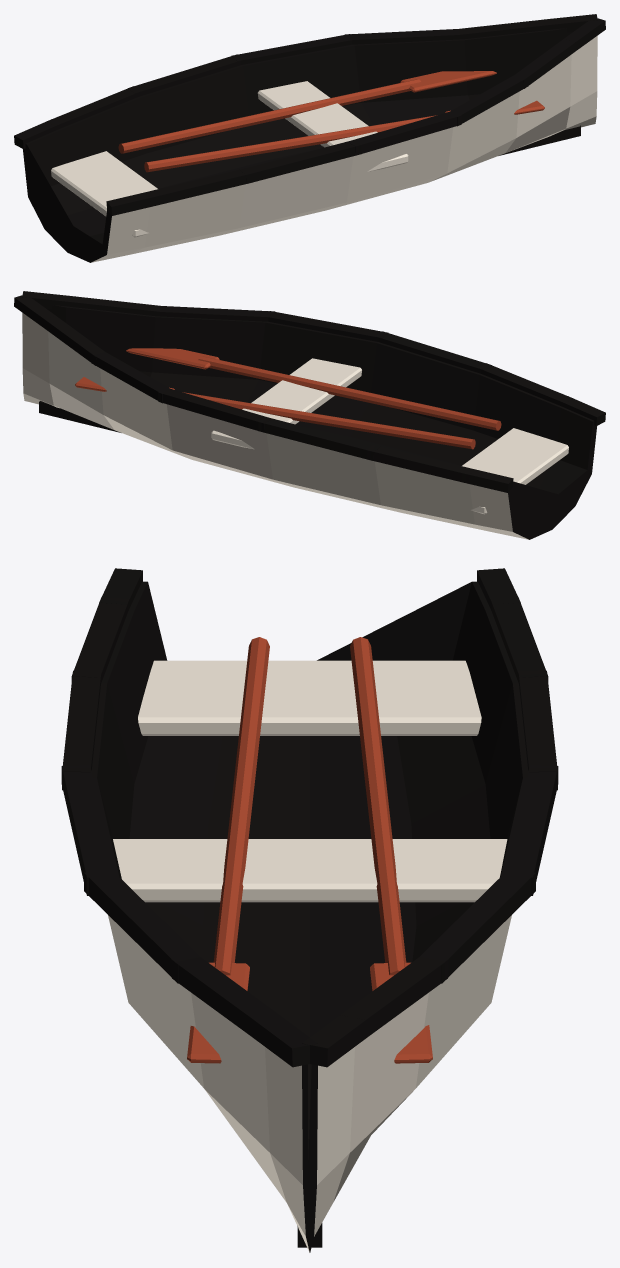
File: rowing_boat.glb
3 renders of one model, top to bottom at view 1: azimuth 30°, elevation 25°; view 2: azimuth 150°, elevation 25°; view 3: azimuth 270°, elevation 25°, orthographic. The views are drawn at different scales.
Parts seen in each view (by area): view 1: rowing_boat; view 2: rowing_boat; view 3: rowing_boat.
Part boxes in pixels (x1=…): rowing_boat: x1=14, y1=14, x2=605, y2=262; rowing_boat: x1=14, y1=291, x2=605, y2=539; rowing_boat: x1=61, y1=568, x2=558, y2=1252.
Size of the model in its own units: 3.06 by 0.6014 by 1.22.
